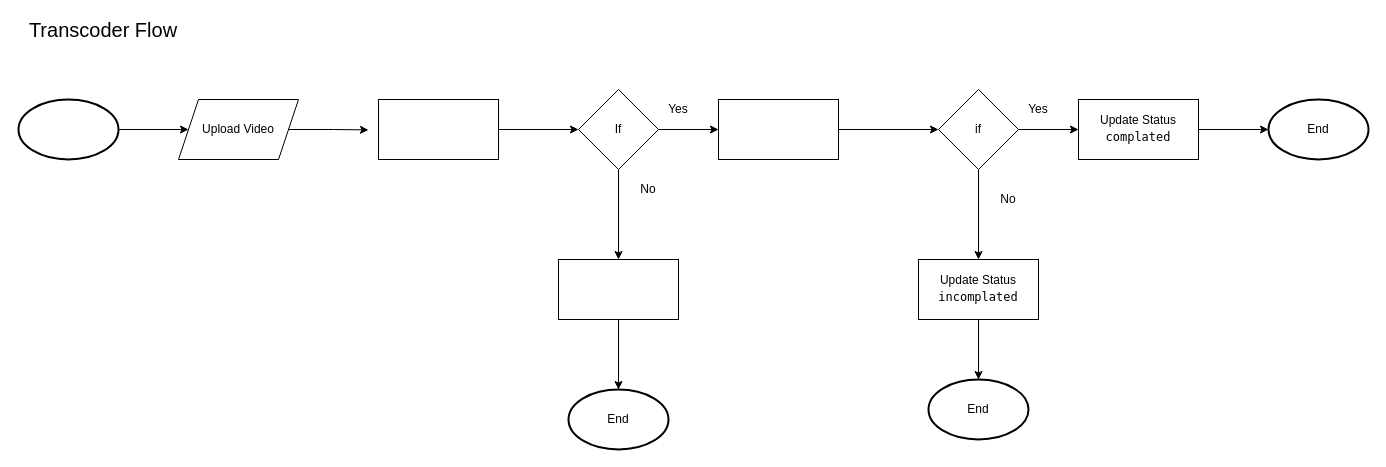
Some shapes in this 1386 by 467 pixel diagram are drawn without their labels. The shapes that lost their labels are listed below. From the top down, each one's centre as x and y in pixels, then its label:
point (68, 129): Start
point (438, 129): Transcoder
point (778, 129): Upload Video to S3
point (618, 289): Update Status error
